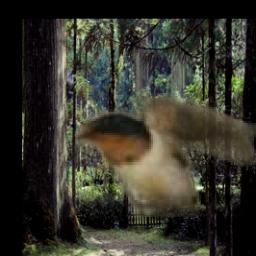Swallow: (75, 94, 256, 218)
